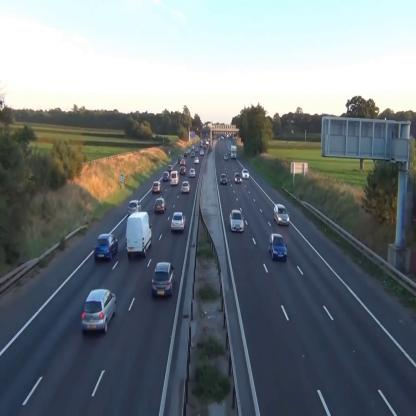car: (81, 288, 116, 335), (152, 261, 176, 299), (94, 233, 119, 262), (268, 233, 288, 262), (274, 204, 290, 226), (230, 210, 244, 232), (171, 212, 186, 232), (154, 198, 166, 216), (128, 200, 141, 213), (180, 181, 191, 193), (152, 181, 162, 192), (220, 173, 228, 184), (234, 172, 242, 183), (242, 168, 249, 179), (162, 171, 168, 182)
lorry: (126, 212, 152, 257), (170, 170, 179, 185)
